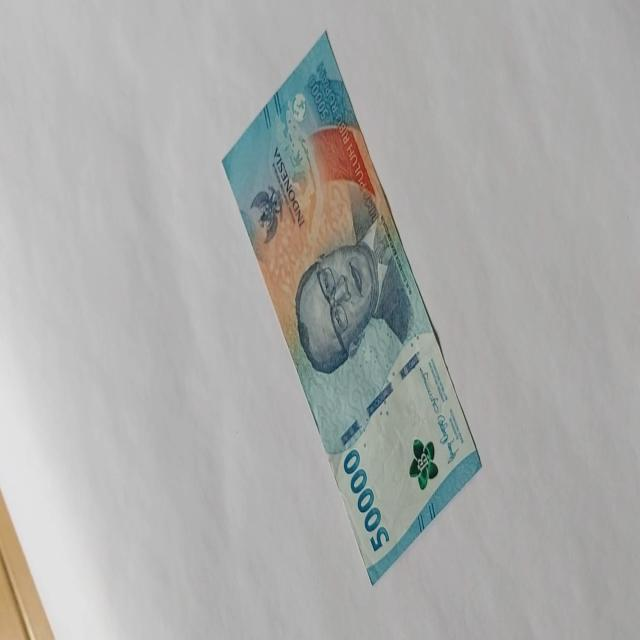lima puluh ribu rupiah: (220, 28, 482, 585), (340, 446, 390, 554)
